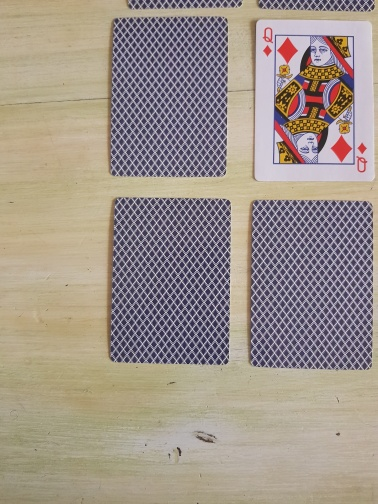queen: (252, 18, 376, 183)
